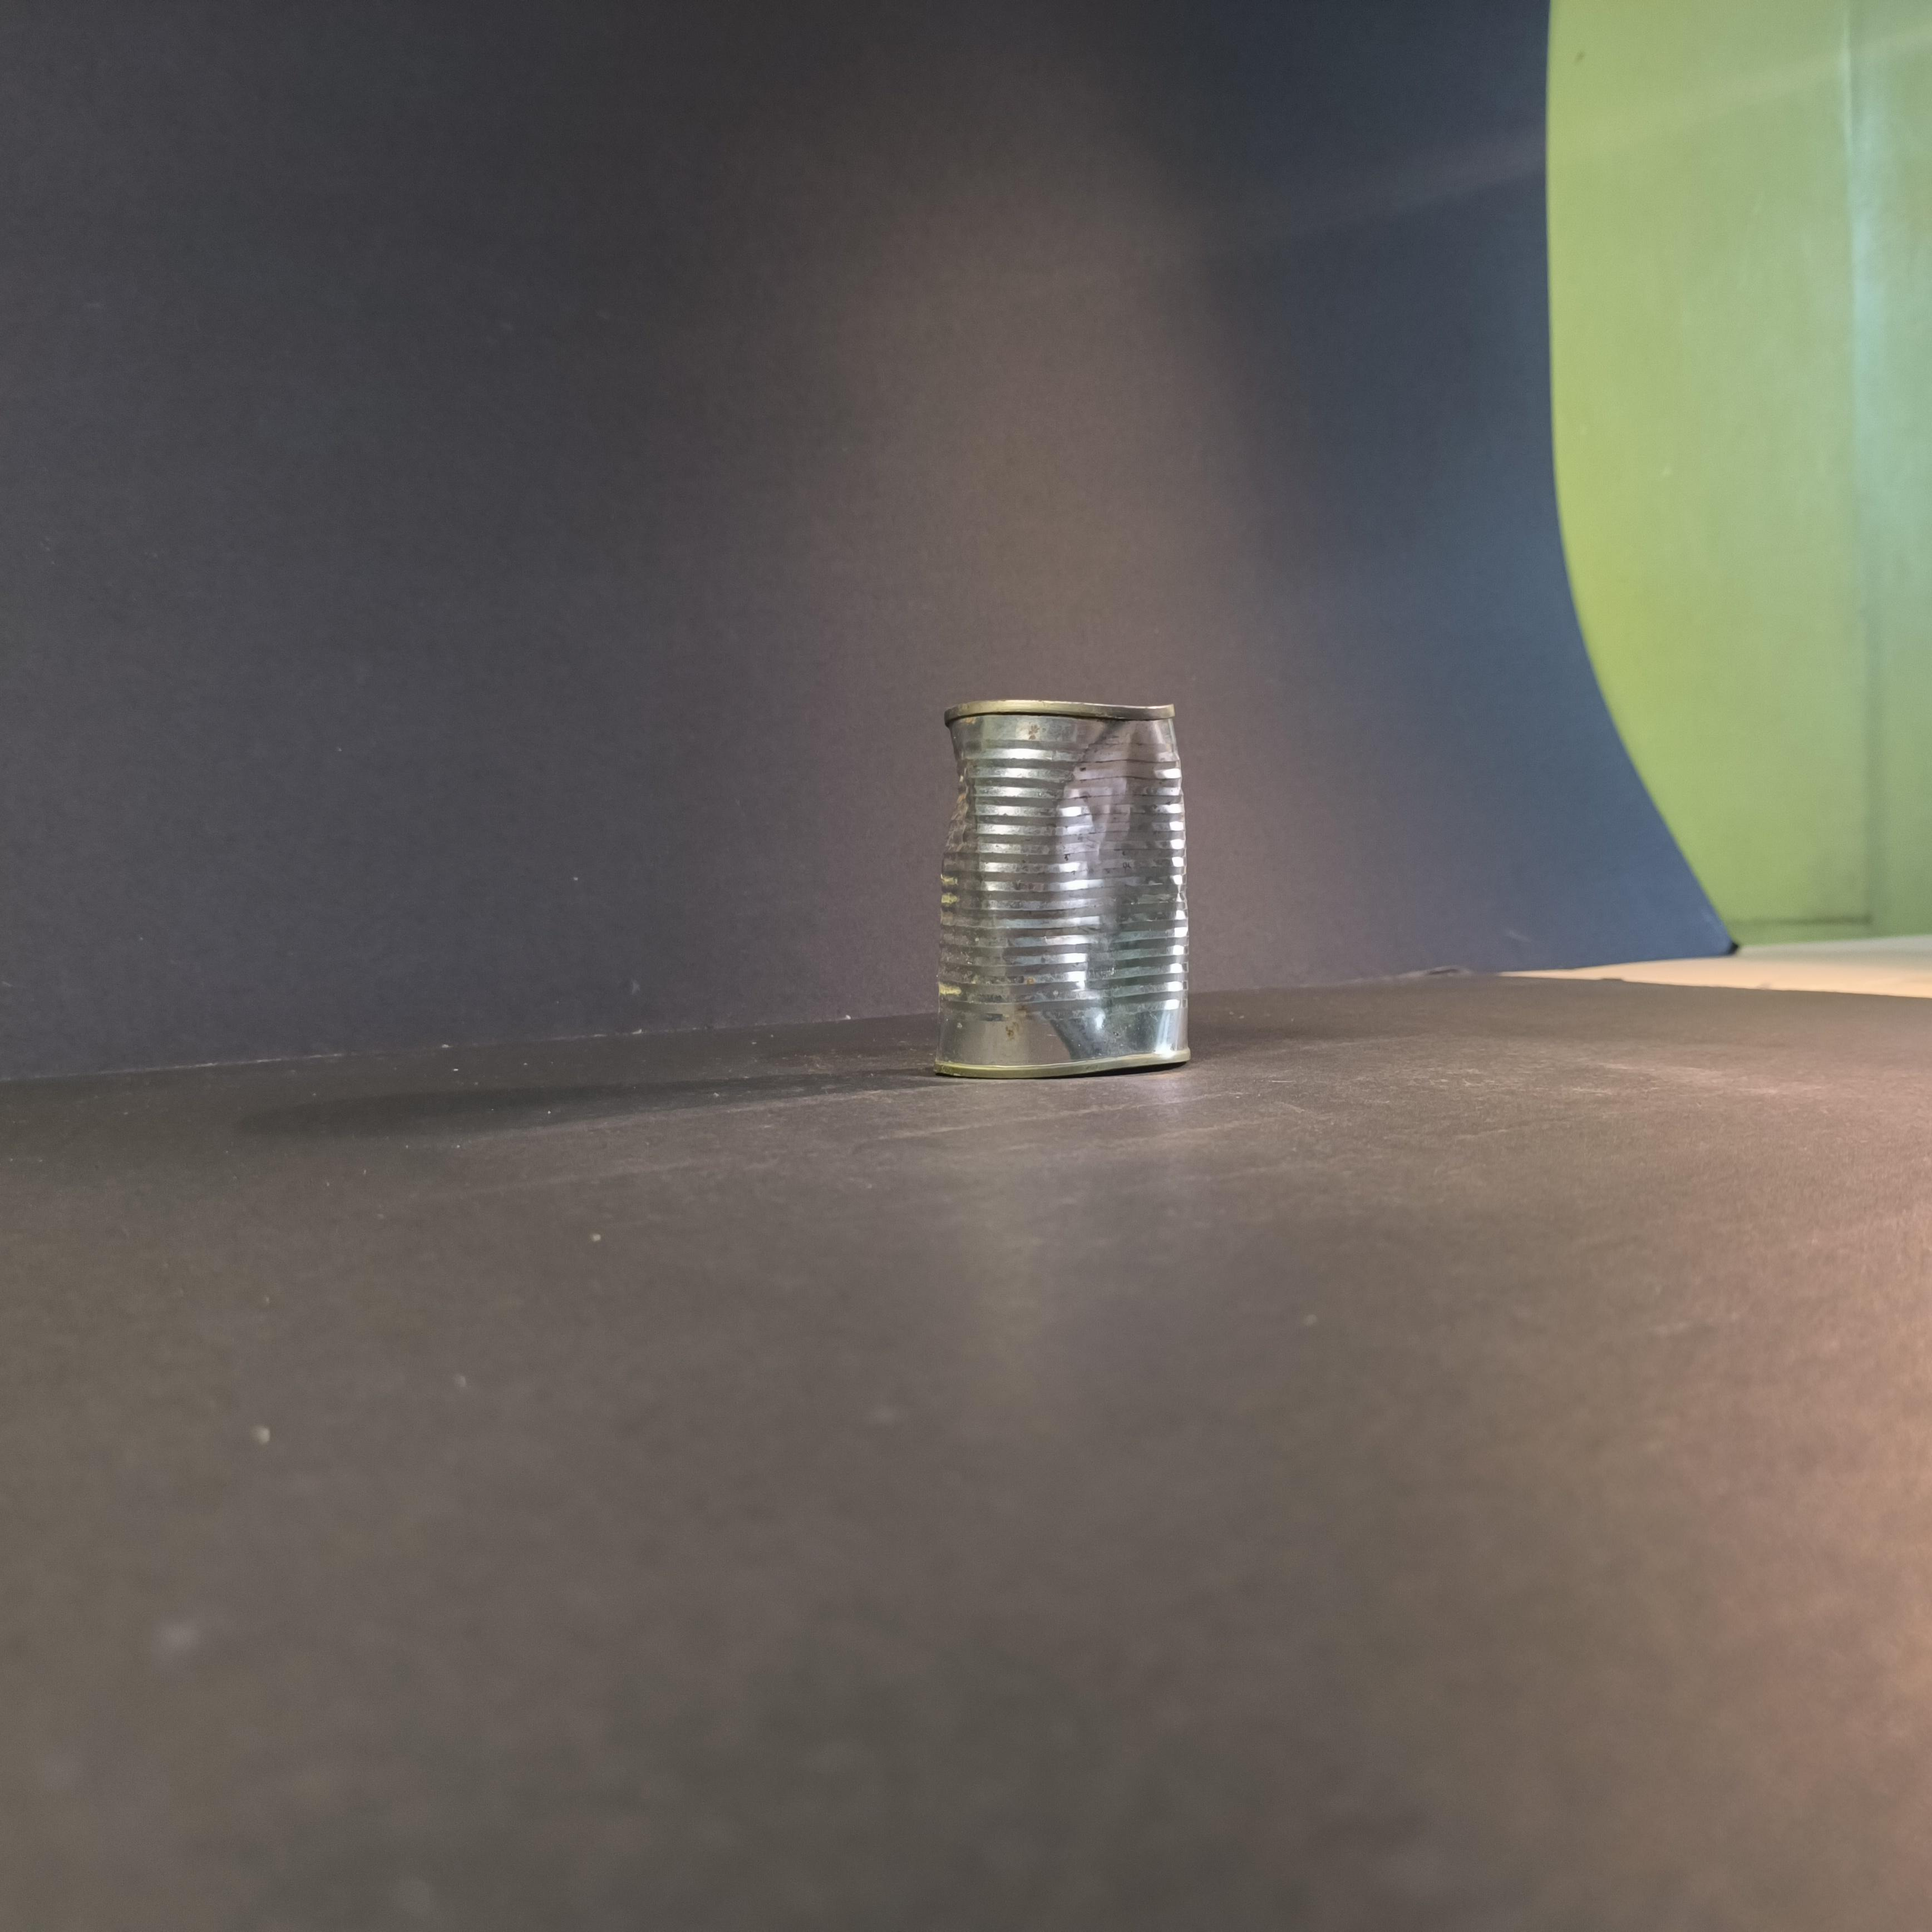Dented: (918, 671, 1201, 1079)
